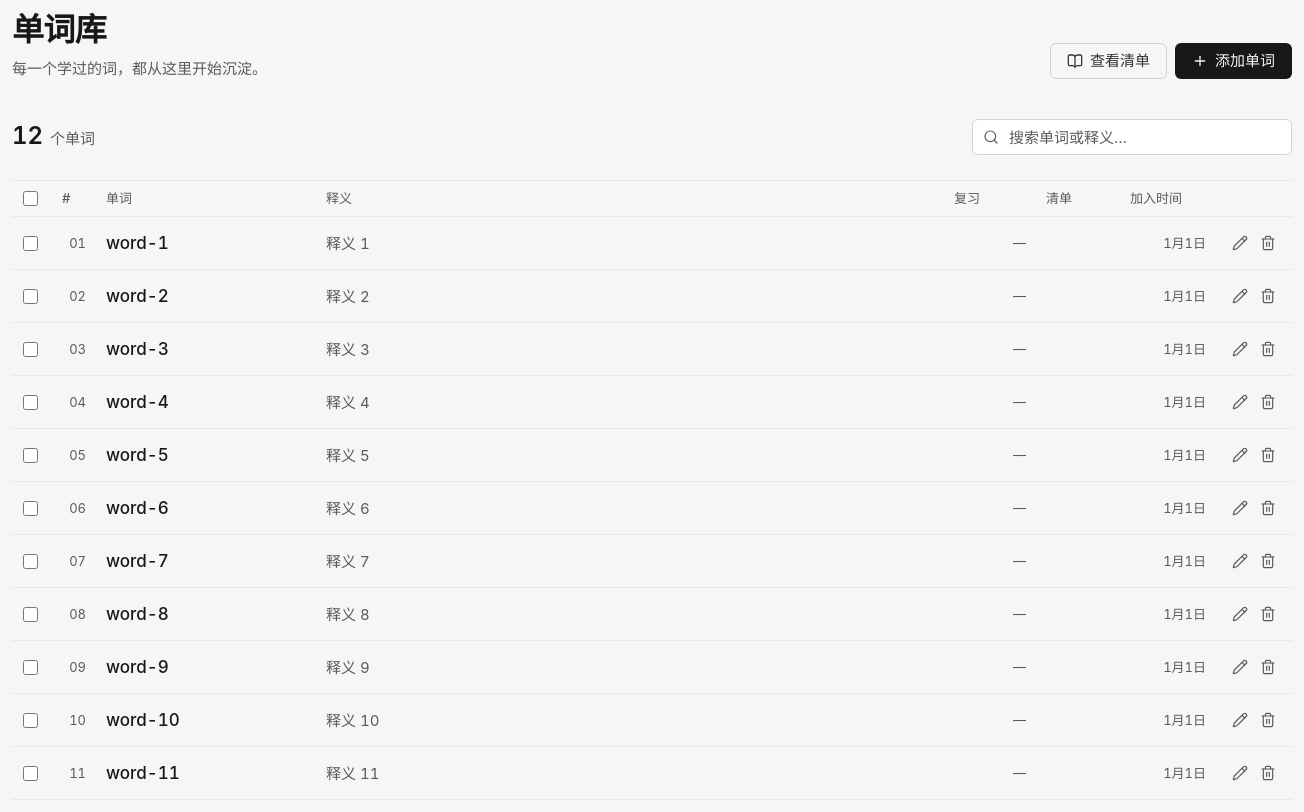
Test case: 单词的批量删除 › 选中项被搜索排除时也计入总数，并给出提示
Click the checkbox named "选择 word-1": (30, 243) [22,236,38,251]
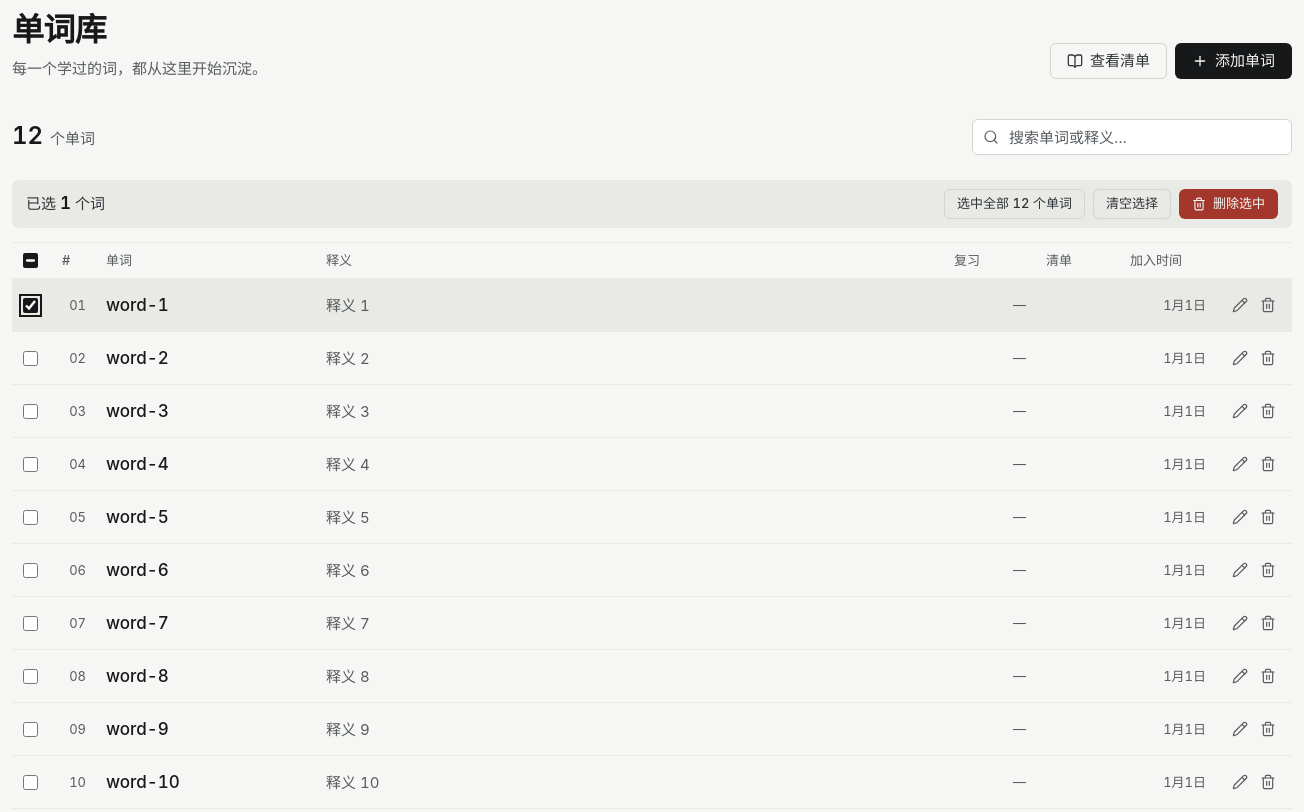
In the search field labelled "搜索单词或释义": (1147, 137) [1007,120,1287,154], type "word-2"
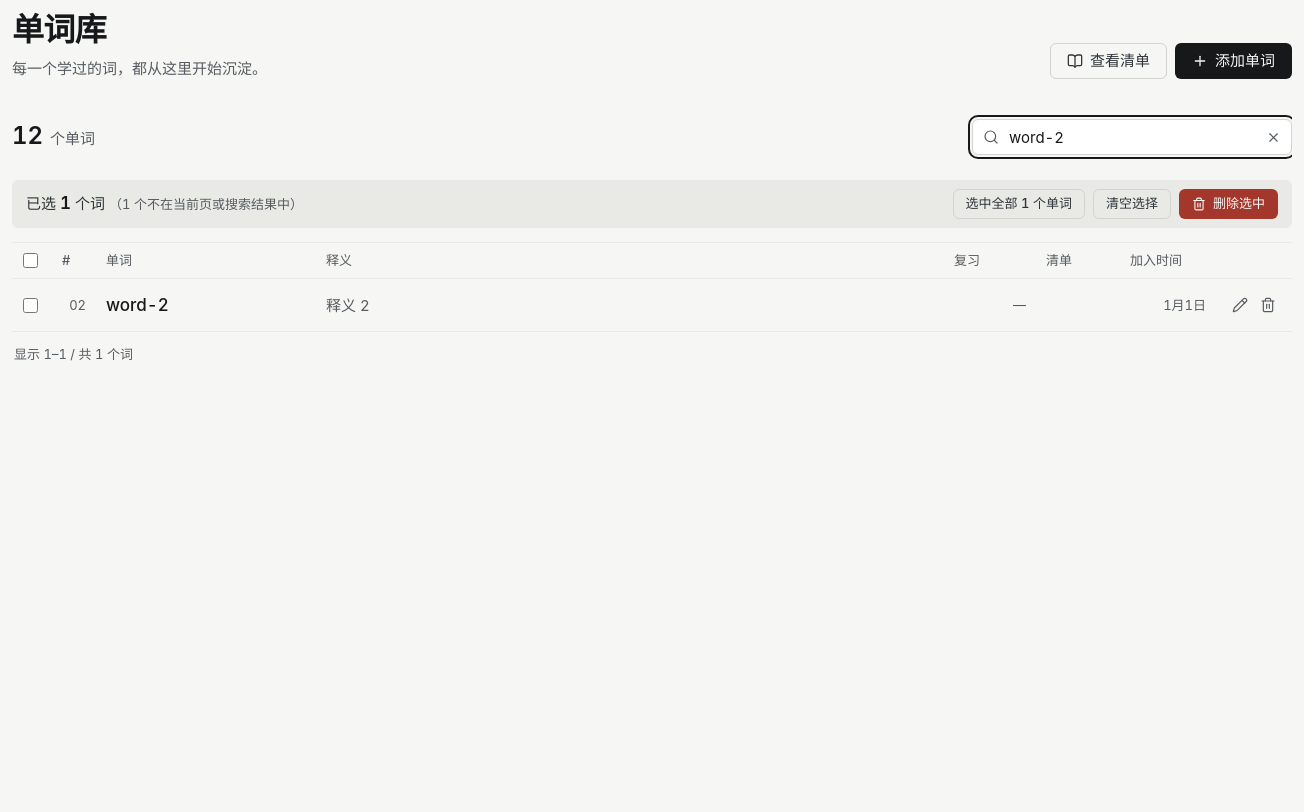
Result: the message shows "已选 1 个词" at [26,192,303,216]
Result: the message shows "（1 个不在当前页或搜索结果中）" at [26,192,303,216]
